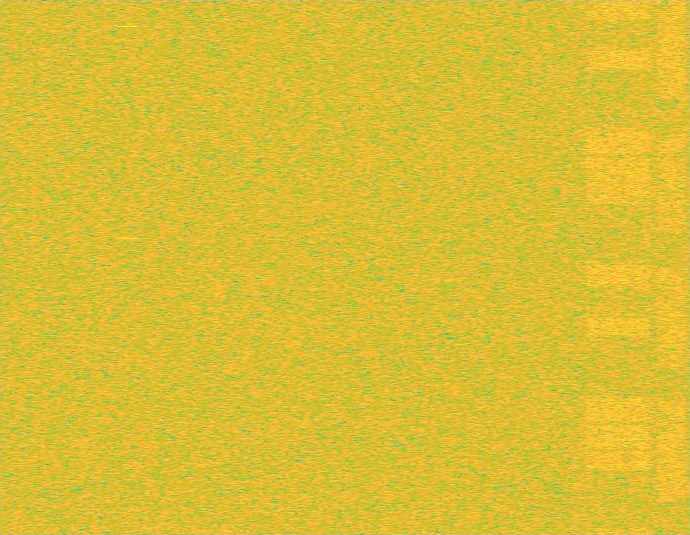5G: (654, 0, 689, 534)
LTE: (584, 0, 653, 534)
Radar: (121, 0, 135, 534)
